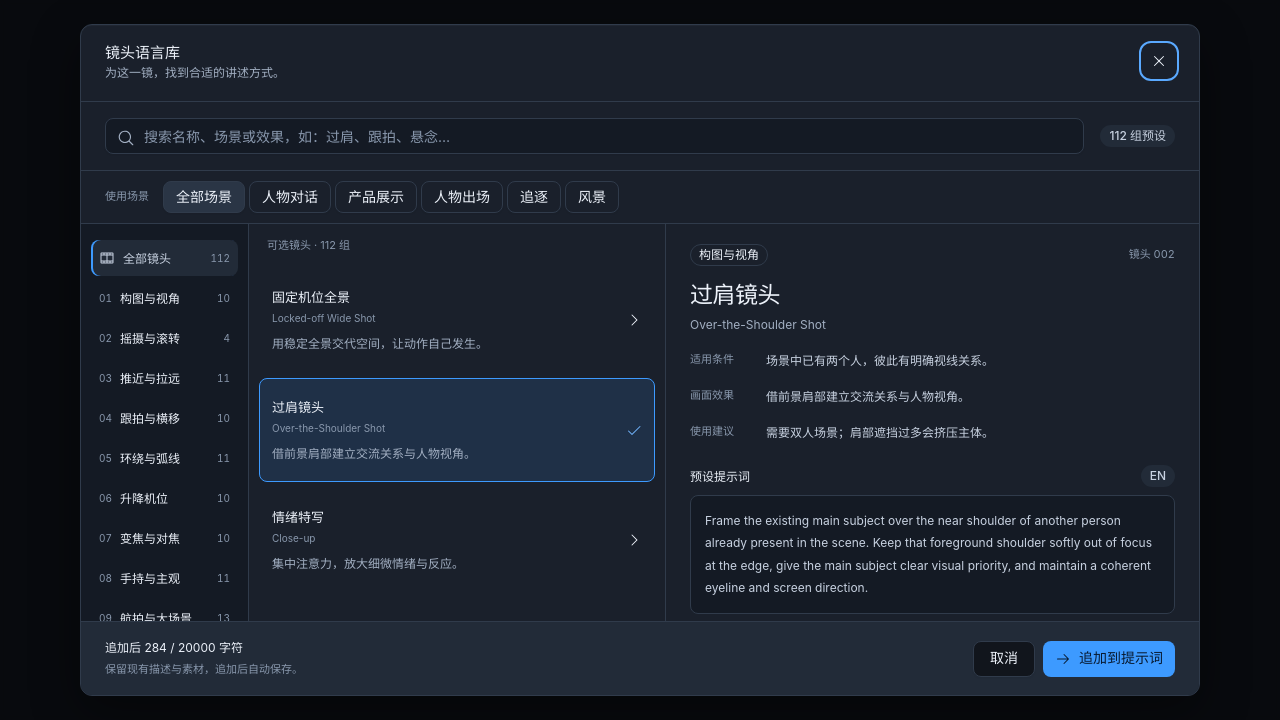
Test: VideoPromptPresetsDialog › offers a reset while results remain and restores a nonempty scene selection when toggled off
The image size is (1280, 720).
Click the radio button labelled "追逐" at (534, 197), box [507,181,561,213]
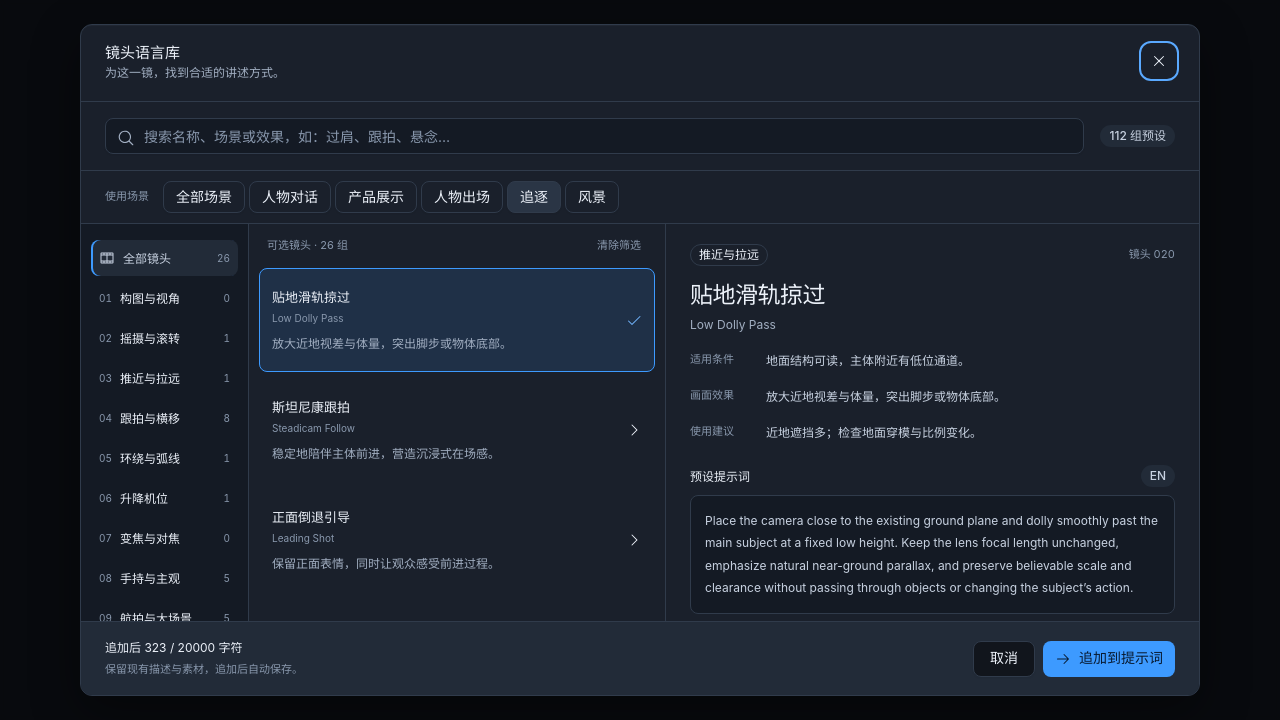
Click the radio button labelled "追逐" at (534, 197), box [507,181,561,213]
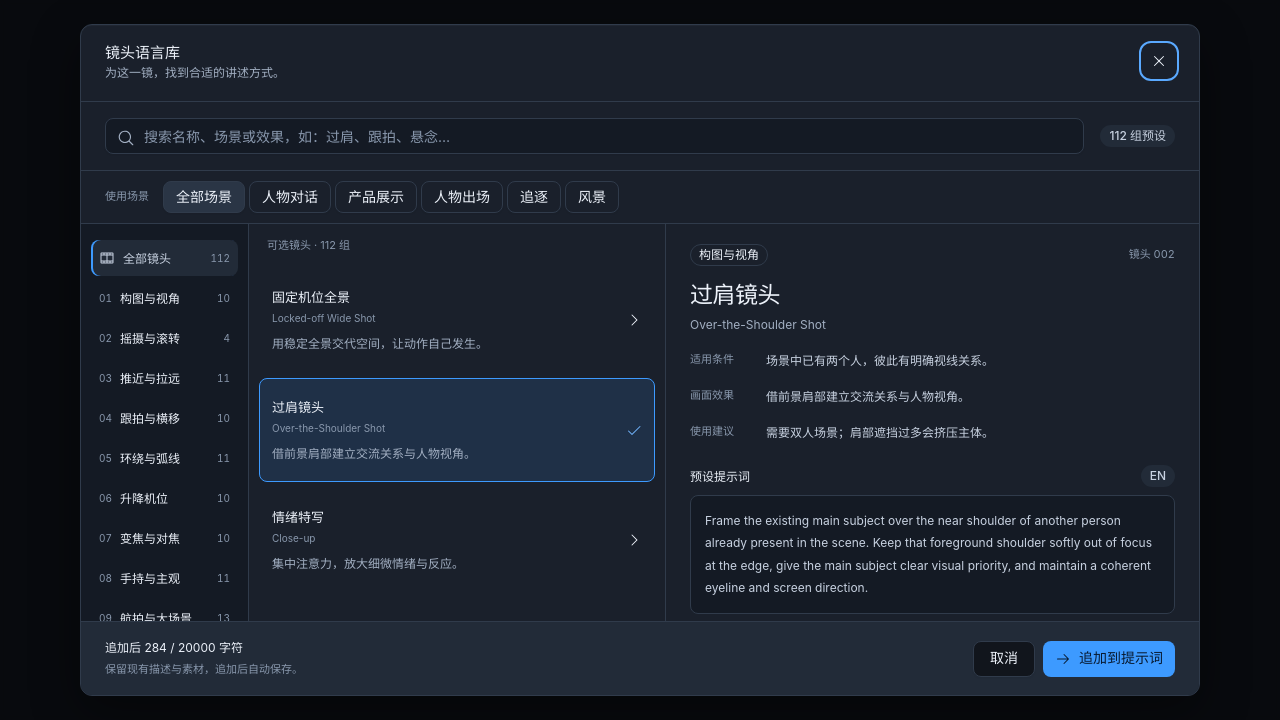
Check: the radio button labelled "全部场景" is checked, box [163,181,245,213]
Click the radio button labelled "人物出场" at (462, 197), box [421,181,503,213]
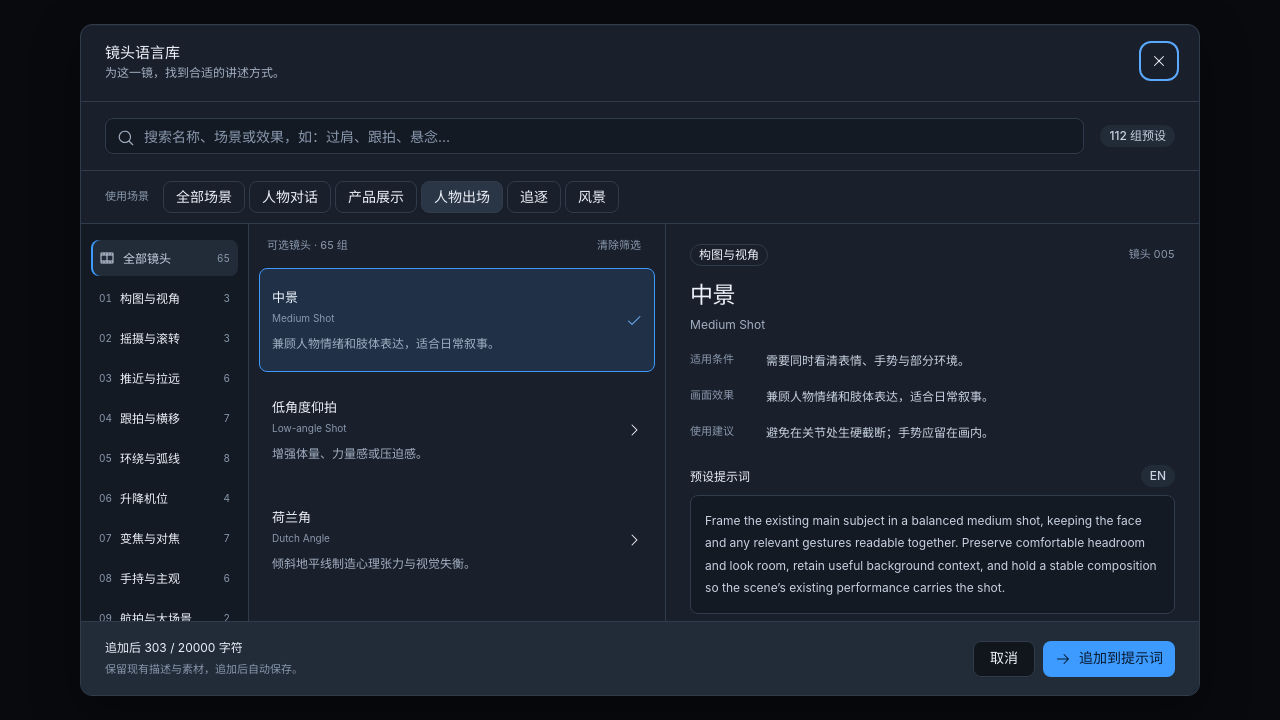
Click the button "清除筛选" at (619, 246), box [585,230,653,262]
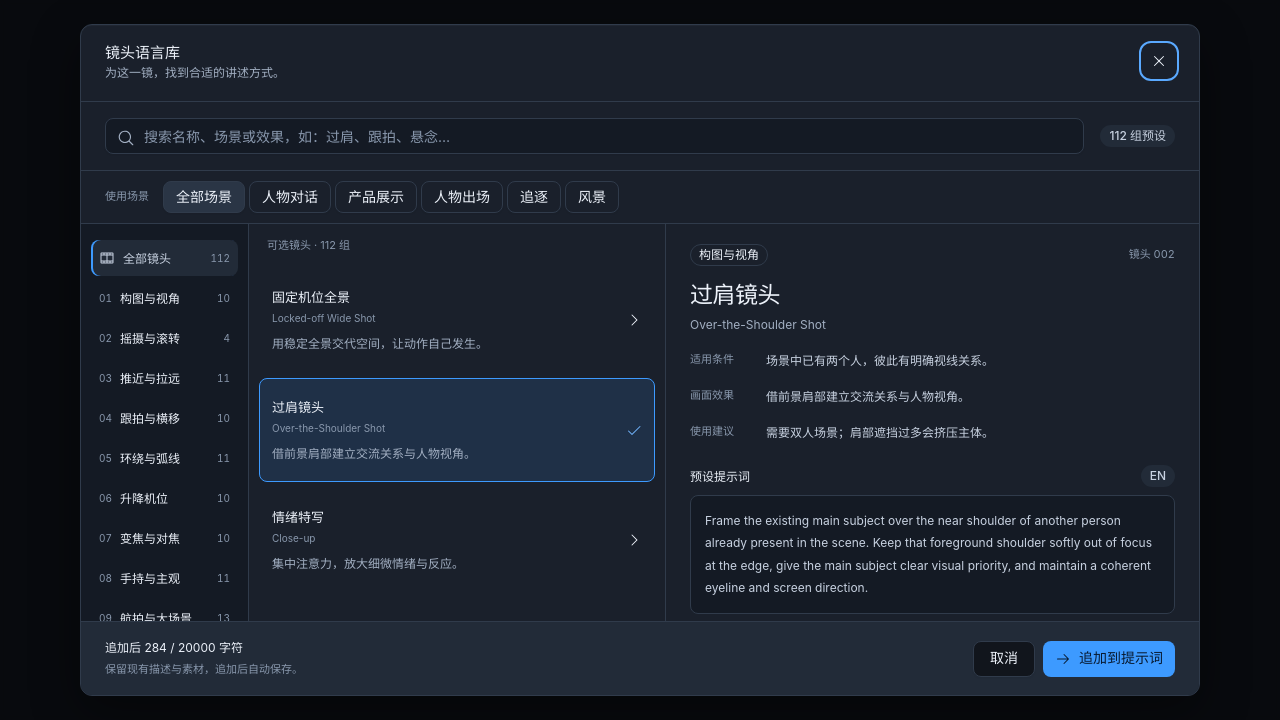
Check: the radio button labelled "全部场景" is checked, box [163,181,245,213]
